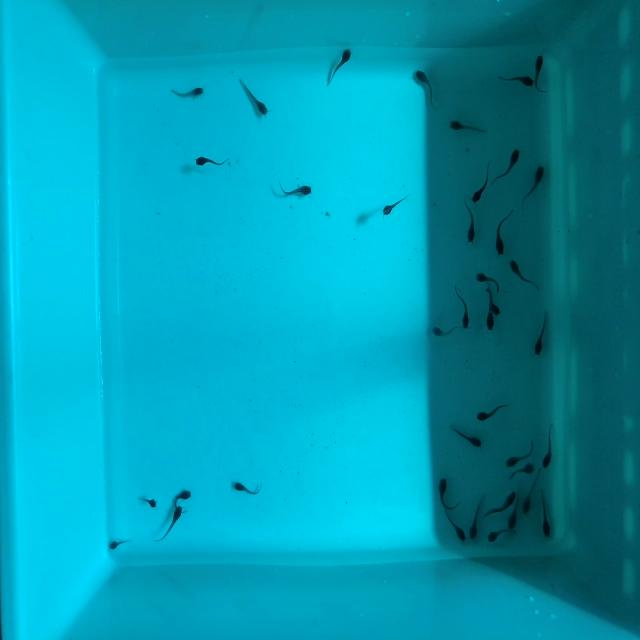lele: (234, 72, 272, 119), (490, 201, 516, 260), (506, 253, 540, 298), (517, 162, 547, 212), (323, 44, 354, 91), (154, 502, 185, 547), (470, 155, 498, 204), (411, 62, 441, 107), (492, 146, 523, 188), (482, 488, 519, 523), (519, 465, 543, 517), (440, 506, 469, 545), (448, 422, 484, 451), (467, 489, 487, 541), (379, 188, 411, 219), (460, 190, 478, 245), (503, 441, 537, 470), (453, 282, 473, 331), (433, 474, 458, 513), (540, 421, 559, 471), (532, 306, 550, 358), (505, 481, 524, 529), (495, 69, 535, 89), (471, 267, 503, 292), (537, 488, 553, 537), (276, 181, 313, 202), (476, 402, 510, 423), (231, 478, 263, 500), (484, 283, 503, 319), (448, 118, 485, 136), (532, 49, 546, 94), (505, 461, 534, 481), (107, 531, 133, 552), (485, 524, 512, 544), (194, 155, 229, 170), (169, 486, 192, 508), (170, 86, 205, 100), (136, 492, 158, 510), (432, 324, 462, 337), (486, 298, 496, 334)
